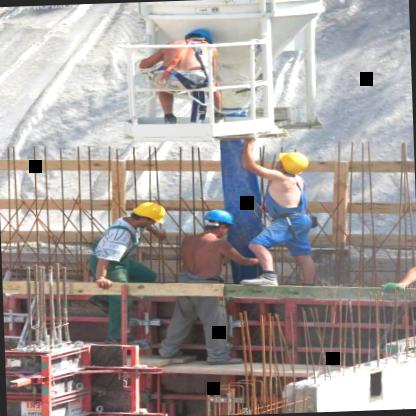helmet: (180, 22, 220, 59), (128, 200, 170, 232), (202, 208, 237, 242), (271, 150, 311, 178)
